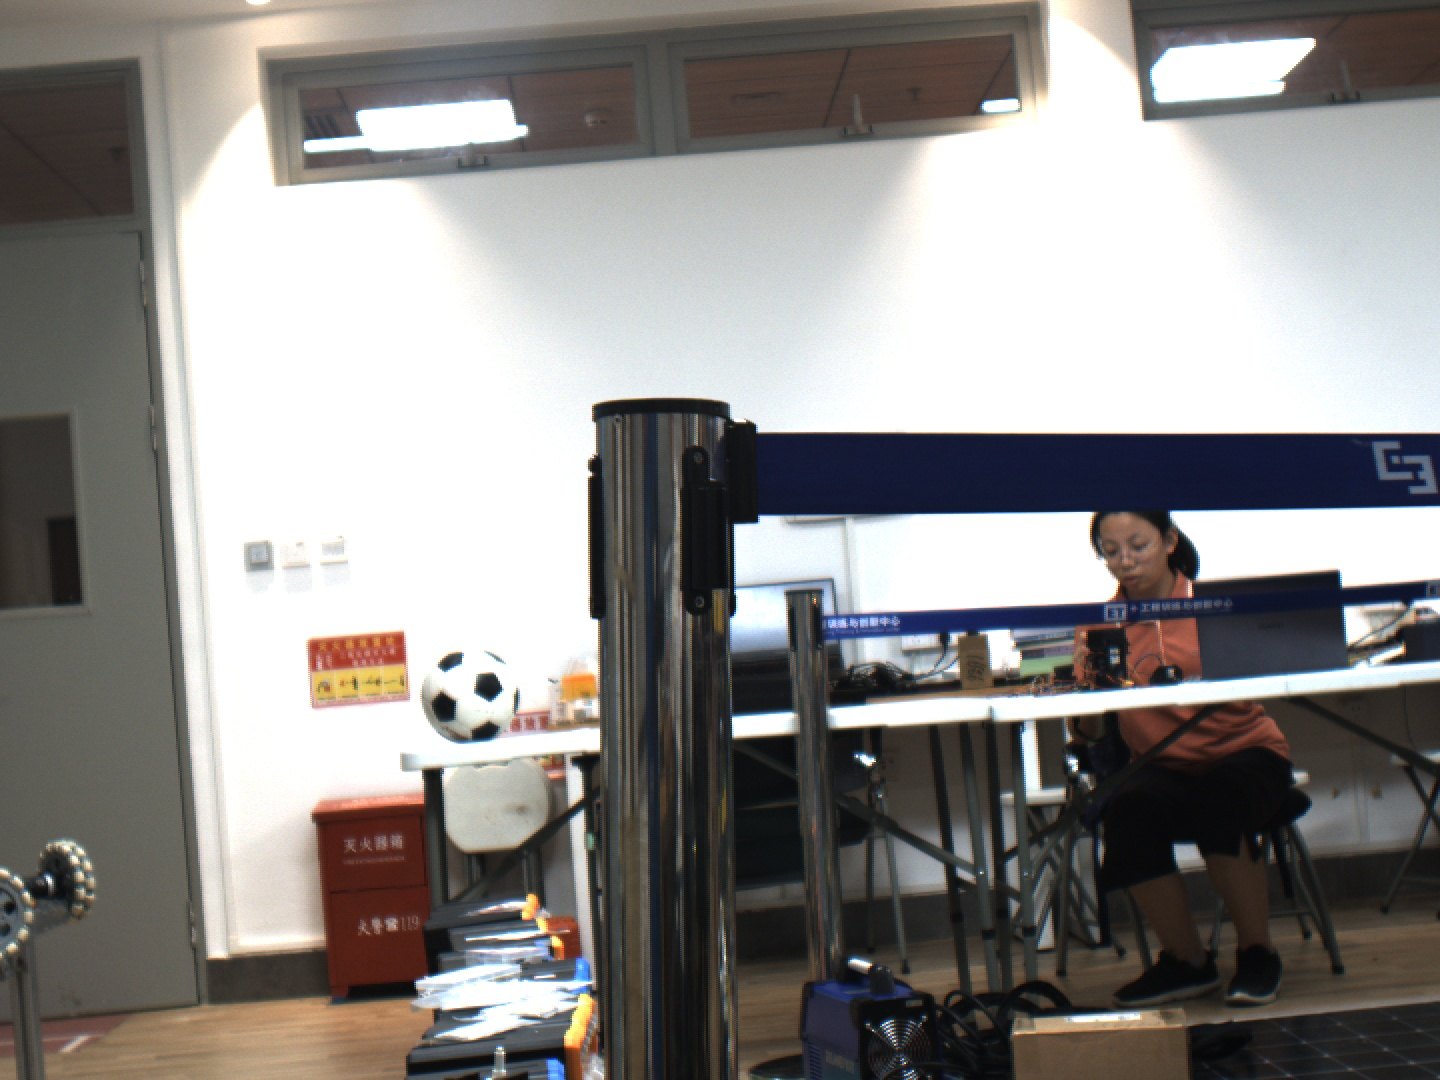ball: (408, 638, 535, 746)
